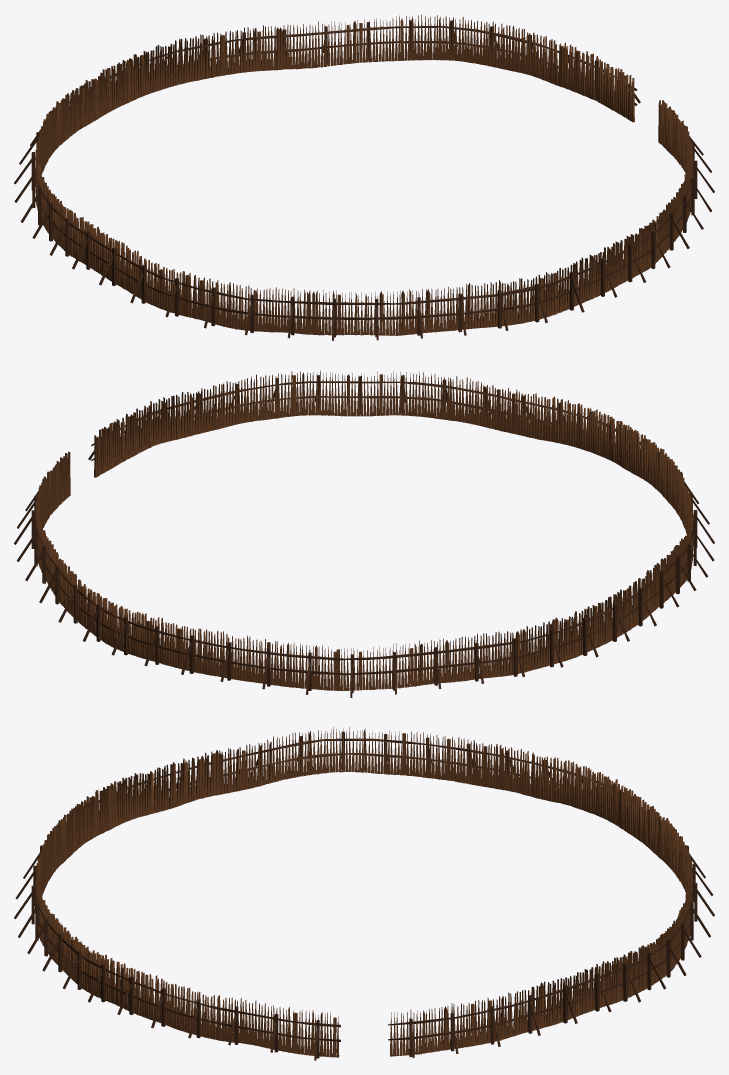
File: Empalizada_LOD1.glb
3 renders of one model, top to bottom at view 1: azimuth 30°, elevation 25°; view 2: azimuth 150°, elevation 25°; view 3: azimuth 270°, elevation 25°, orthographic.
Parts seen in each view (by area): view 1: Empalizada; view 2: Empalizada; view 3: Empalizada.
Boxes of the visible parts, x1,y1,x2,y2 form: Empalizada: (14,14,714,340); Empalizada: (14,370,714,697); Empalizada: (14,727,714,1060).
Size of the model in its own units: 70.37 by 6.38 by 70.75.
